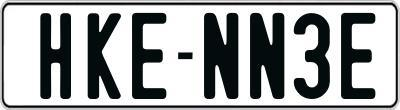3: (291, 12, 333, 103)
E: (131, 10, 170, 100), (341, 12, 376, 98)
H: (40, 11, 77, 101)
K: (88, 10, 123, 102)
N: (247, 11, 281, 103), (201, 11, 235, 102)
